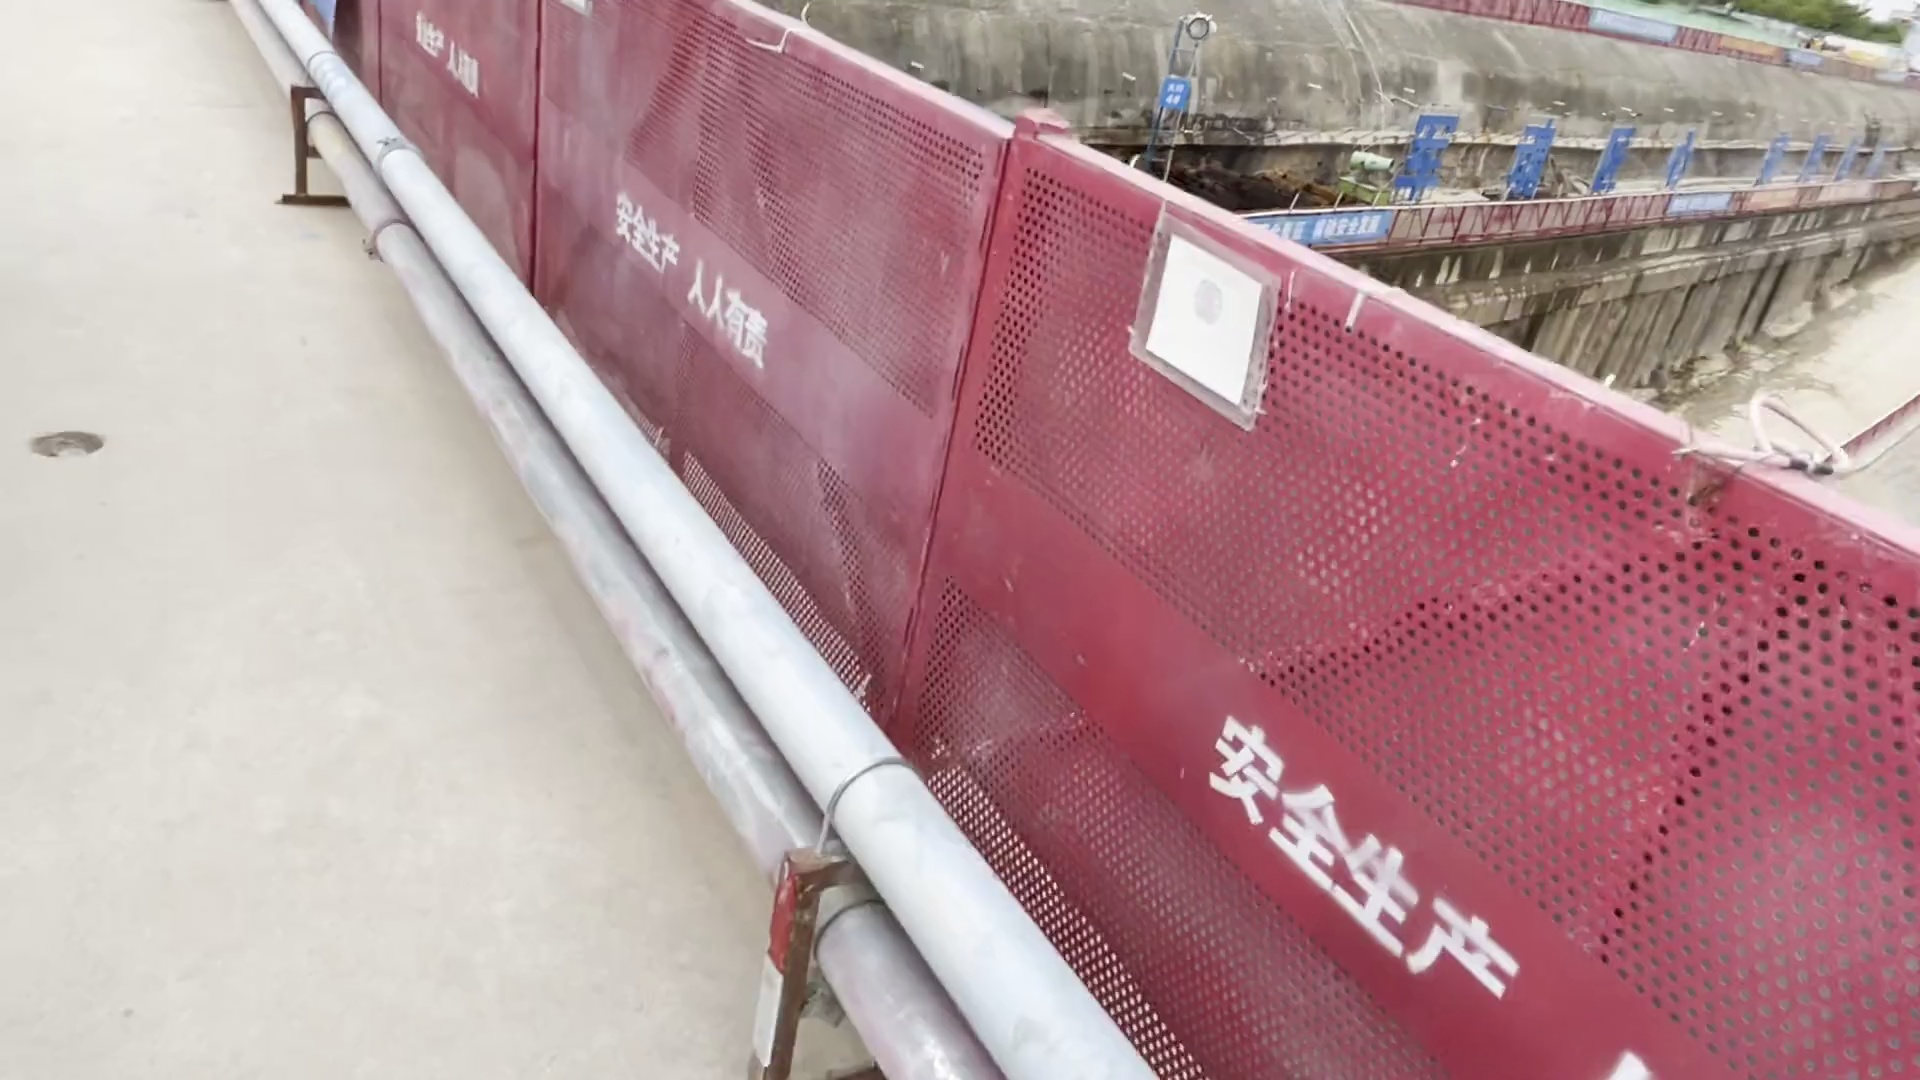fence: (724, 41, 1888, 1080)
